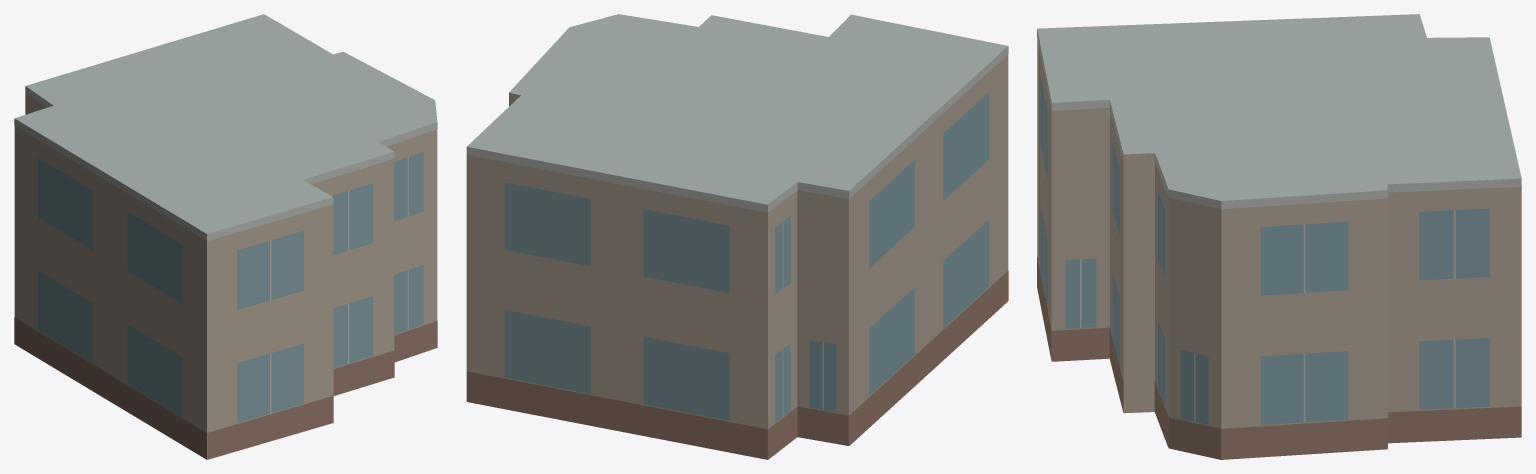
The model's file is survey-upis-33046795.glb.
3 renders of one model, left to right at view 1: azimuth 30°, elevation 25°; view 2: azimuth 150°, elevation 25°; view 3: azimuth 270°, elevation 25°, orthographic. The views are drawn at different scales.
Parts seen in each view (by area): view 1: survey-upis-33046795.tmp; view 2: survey-upis-33046795.tmp; view 3: survey-upis-33046795.tmp.
Part boxes in pixels (x1,y1,x2,y2): survey-upis-33046795.tmp: (14, 14, 437, 459); survey-upis-33046795.tmp: (466, 14, 1008, 459); survey-upis-33046795.tmp: (1037, 14, 1521, 459).
Bounding box in the file's own units: 11.94 × 7.7 × 13.07.
